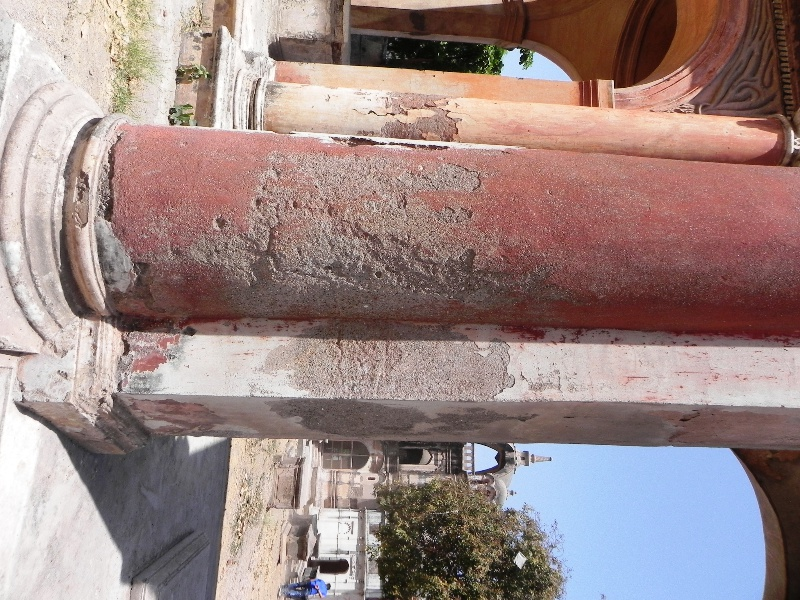Spalling: (264, 317, 520, 400), (71, 135, 122, 233), (366, 91, 464, 140), (110, 255, 155, 300), (110, 322, 136, 379)
